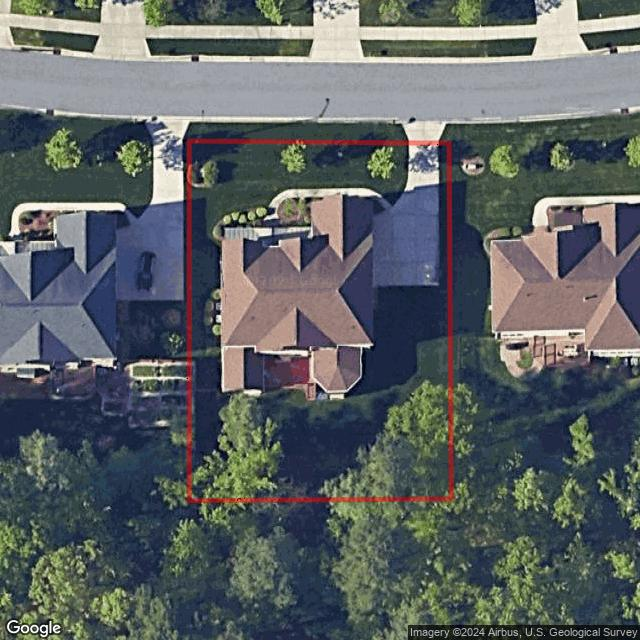Driveway: (375, 143, 439, 290)
Extra-Driveway: (402, 123, 447, 144)
Extra-Lawn: (187, 122, 411, 141), (439, 124, 452, 142)
House: (221, 195, 375, 396)
Lawn: (188, 140, 452, 503)
Other: (263, 352, 315, 401), (213, 208, 265, 240), (278, 197, 329, 226), (202, 286, 222, 342), (223, 228, 313, 239), (186, 159, 215, 188)
Sidewalk: (264, 187, 395, 228)
